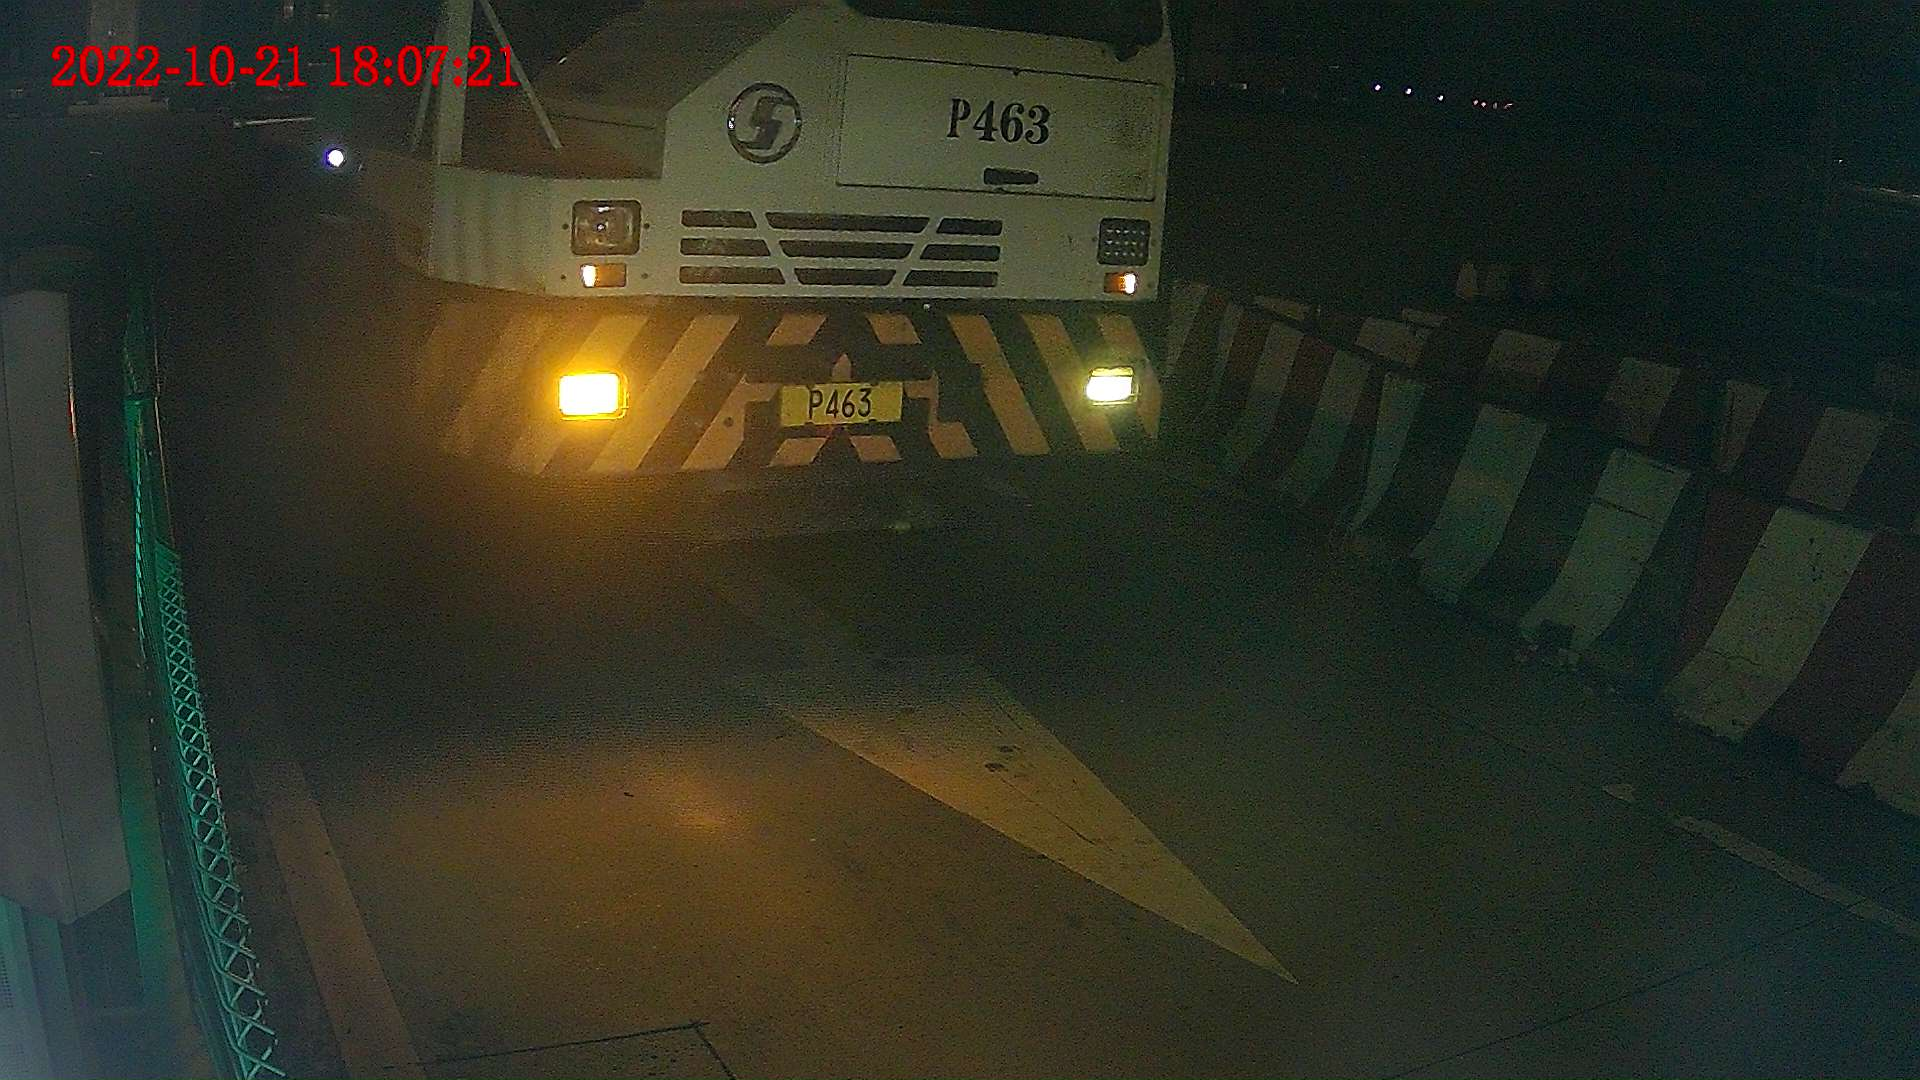head: (329, 1, 1177, 548)
plate: (770, 386, 897, 422)
